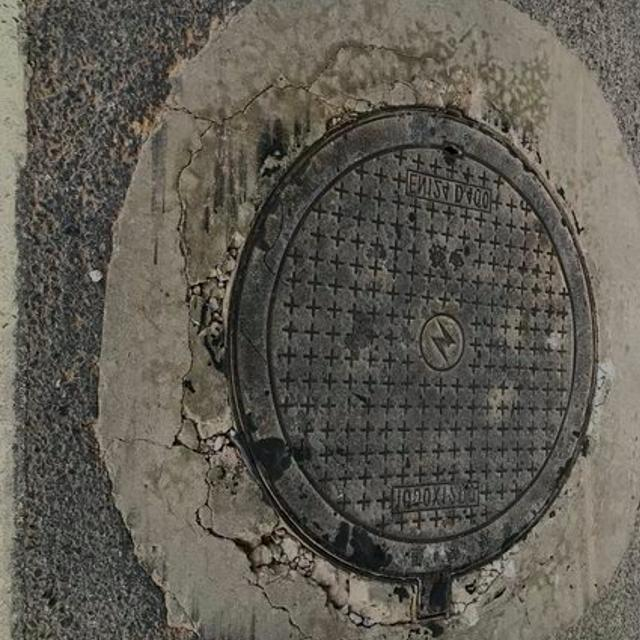circle: (100, 0, 640, 640)
